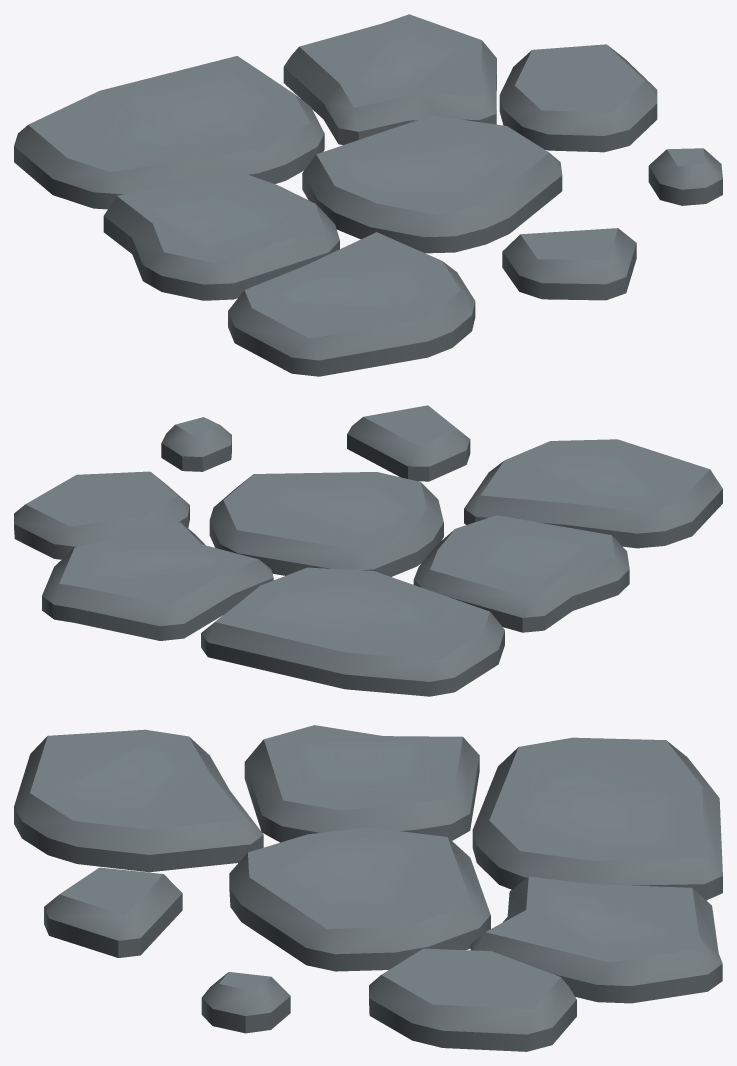
File: path_c.glb
The picture shows the model from 3 angles, top to bottom: view 1: azimuth 30°, elevation 25°; view 2: azimuth 150°, elevation 25°; view 3: azimuth 270°, elevation 25°; orthographic projection. The views are drawn at different scales.
Parts seen in each view (by area): view 1: path_C; view 2: path_C; view 3: path_C.
Part boxes in pixels (<box>): path_C: <box>14,14,722,376</box>; path_C: <box>14,405,722,696</box>; path_C: <box>14,725,722,1051</box>.
Bounding box in the file's own units: 1.85 × 0.1 × 1.86.
1 material, 1 textured.
